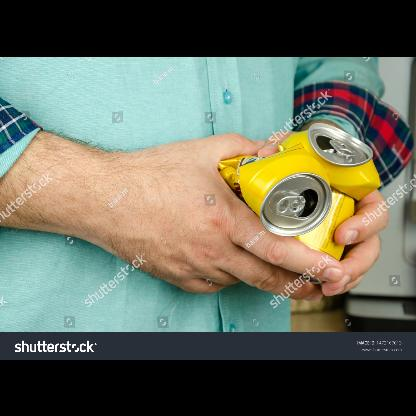Dent_Can: (219, 144, 305, 201), (337, 169, 377, 201)
Lid_Open: (274, 184, 320, 224), (315, 132, 359, 166)
